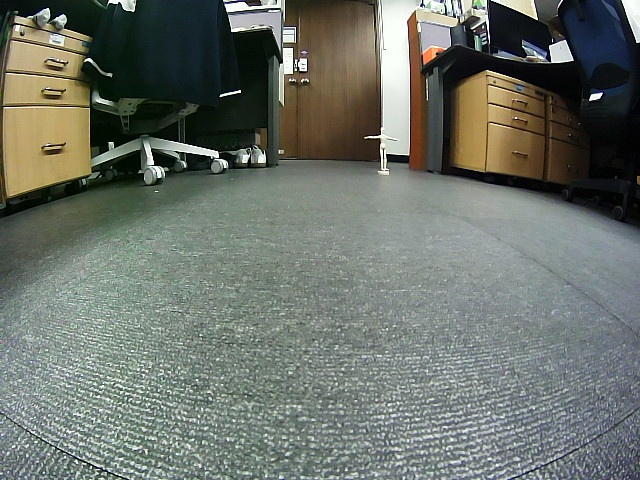person: (364, 128, 398, 171)
